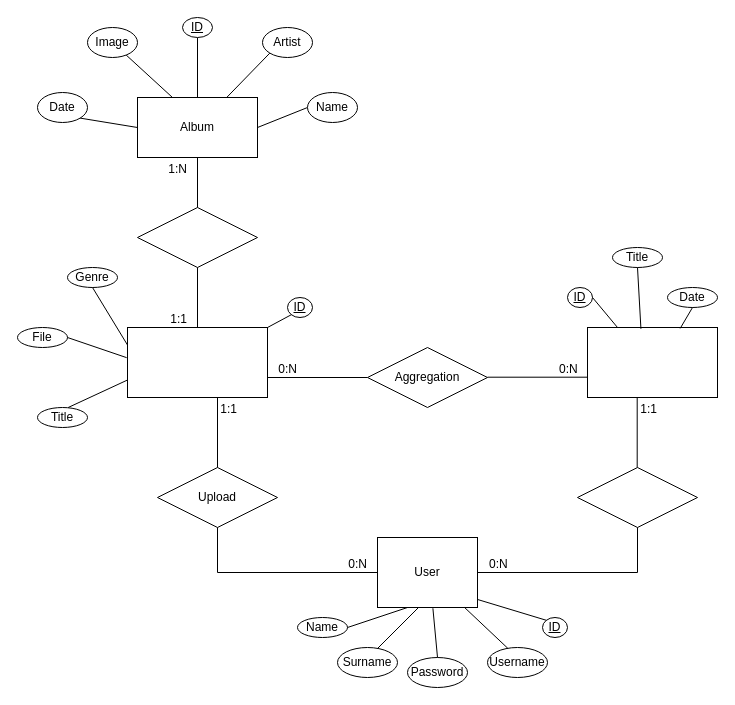
Some shapes in this 735 by 705 pixel diagram are drawn without their labels. The shapes that lost their labels are listed below. From the top down, each one's box as (x1, y1, x2, y2) in pixels, then its label:
(136, 206, 258, 268): Inclusion
(126, 326, 268, 398): Track
(586, 326, 718, 398): Playlist
(576, 466, 698, 528): Creation
